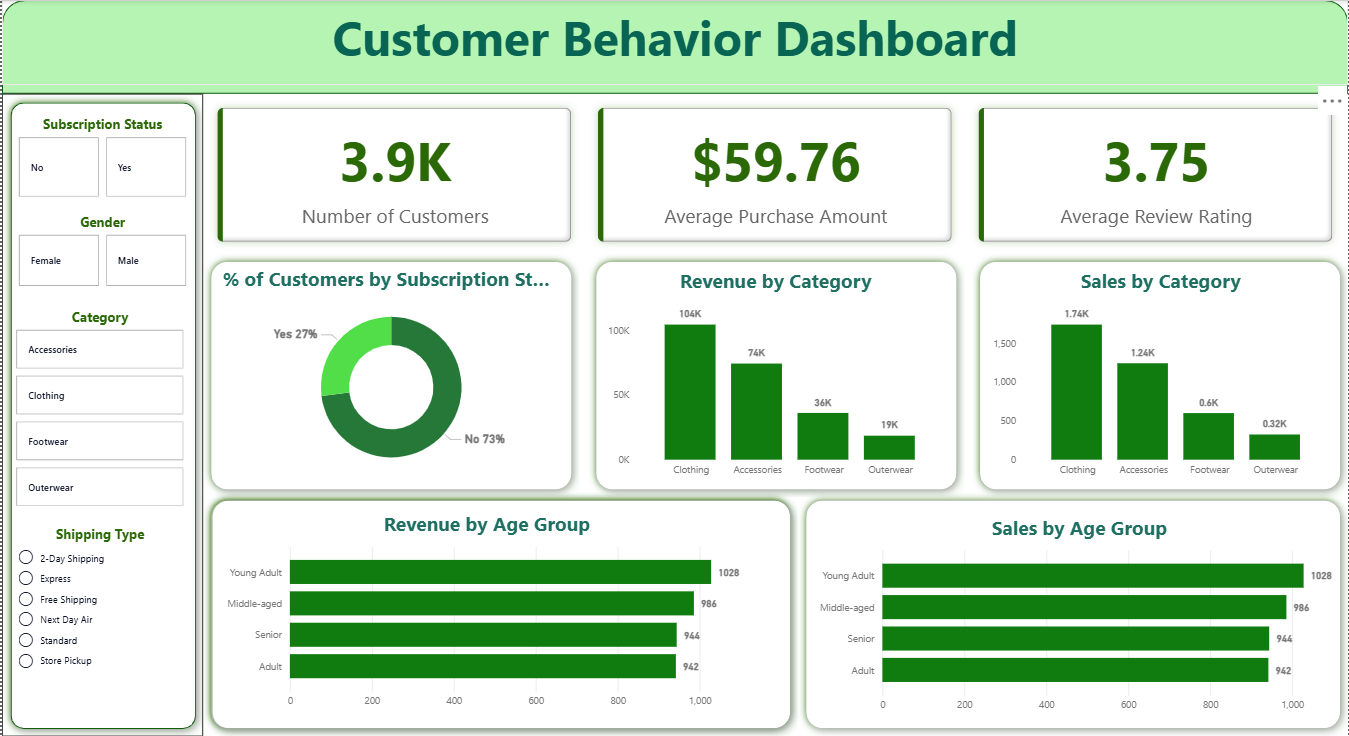

The dashboard page shown, as its layout file describes it:
{"tool":"powerbi","page":{"name":"Page 1","canvas":[1500,820],"ordinal":0},"visuals":[{"type":"cardVisual","fields":{"Data":["public customer.Number of Customers","public customer.Average Purchase Amount","public customer.Average Review Rating"]},"box":[224.2,104.5,1275.7,181],"z":0},{"type":"shape","box":[0,0,1499.9,104.5],"z":1000},{"type":"textbox","box":[0,0,1499.9,94.7],"z":2000},{"type":"shape","box":[224.2,282.7,419.2,271.6],"z":3000},{"type":"donutChart","title":"% of Customers by Subscription Status","fields":{"Category":["public customer.subscription_status"],"Y":["Count(public customer.customer_id)"]},"box":[240.9,295.2,385.8,243.7],"z":4000},{"type":"shape","box":[652.5,283,419.2,271.6],"z":5000},{"type":"shape","box":[1080.7,283,419.2,271.6],"z":6000},{"type":"clusteredColumnChart","title":"Revenue by Category","fields":{"Category":["public customer.category"],"Y":["Sum(public customer.purchase_amount)"]},"box":[669.9,298,384.4,242.3],"z":7000},{"type":"clusteredColumnChart","title":"Sales by Category","fields":{"Category":["public customer.category"],"Y":["Count(public customer.customer_id)"]},"box":[1098.8,298,384.4,242.3],"z":8000},{"type":"shape","box":[0,104.5,224.2,715.8],"z":9000},{"type":"advancedSlicerVisual","title":"Subscription Status","fields":{"Values":["public customer.subscription_status"]},"box":[13.9,128.1,196.4,96.1],"z":10000},{"type":"advancedSlicerVisual","title":"Gender","fields":{"Values":["public customer.gender"]},"box":[13.9,236.8,196.4,87.7],"z":10001},{"type":"advancedSlicerVisual","title":"Category","fields":{"Values":["public customer.category"]},"box":[11.1,342.6,196.4,229.8],"z":10002},{"type":"listSlicer","title":"Shipping Type","fields":{"Values":["public customer.shipping_type"]},"box":[12.5,584.9,193.6,213.1],"z":10003},{"type":"shape","box":[224.2,548.7,661.5,271.6],"z":10006},{"type":"shape","box":[887.1,548.7,612.8,271.6],"z":10007},{"type":"clusteredBarChart","title":"Sales by Age Group","fields":{"Category":["public customer.age_group"],"Y":["CountNonNull(public customer.purchase_amount)"]},"box":[901.1,572.4,598.8,229.8],"z":10008},{"type":"shape","box":[225.6,548.4,661.5,271.6],"z":10009},{"type":"clusteredBarChart","title":"Revenue by Age Group","fields":{"Category":["public customer.age_group"],"Y":["CountNonNull(public customer.purchase_amount)"]},"box":[240.9,568.2,598.8,229.8],"z":10010}]}

Visuals, with their boxes in screenshot pixels (x1, y1, x2, y2), scaled from the page's 1500x820 canvas onto the 1349x736 screenshot:
cardVisual - public customer.Number of Customers x public customer.Average Purchase Amount: 202:94:1348:256
shape: 0:0:1348:94
textbox: 0:0:1348:85
shape: 202:254:579:498
"% of Customers by Subscription Status" donutChart: 217:265:564:484
shape: 587:254:964:498
shape: 972:254:1348:498
"Revenue by Category" clusteredColumnChart: 602:267:948:485
"Sales by Category" clusteredColumnChart: 988:267:1334:485
shape: 0:94:202:735
"Subscription Status" advancedSlicerVisual: 13:115:189:201
"Gender" advancedSlicerVisual: 13:213:189:291
"Category" advancedSlicerVisual: 10:308:187:514
"Shipping Type" listSlicer: 11:525:185:716
shape: 202:492:797:735
shape: 798:492:1348:735
"Sales by Age Group" clusteredBarChart: 810:514:1348:720
shape: 203:492:798:735
"Revenue by Age Group" clusteredBarChart: 217:510:755:716
